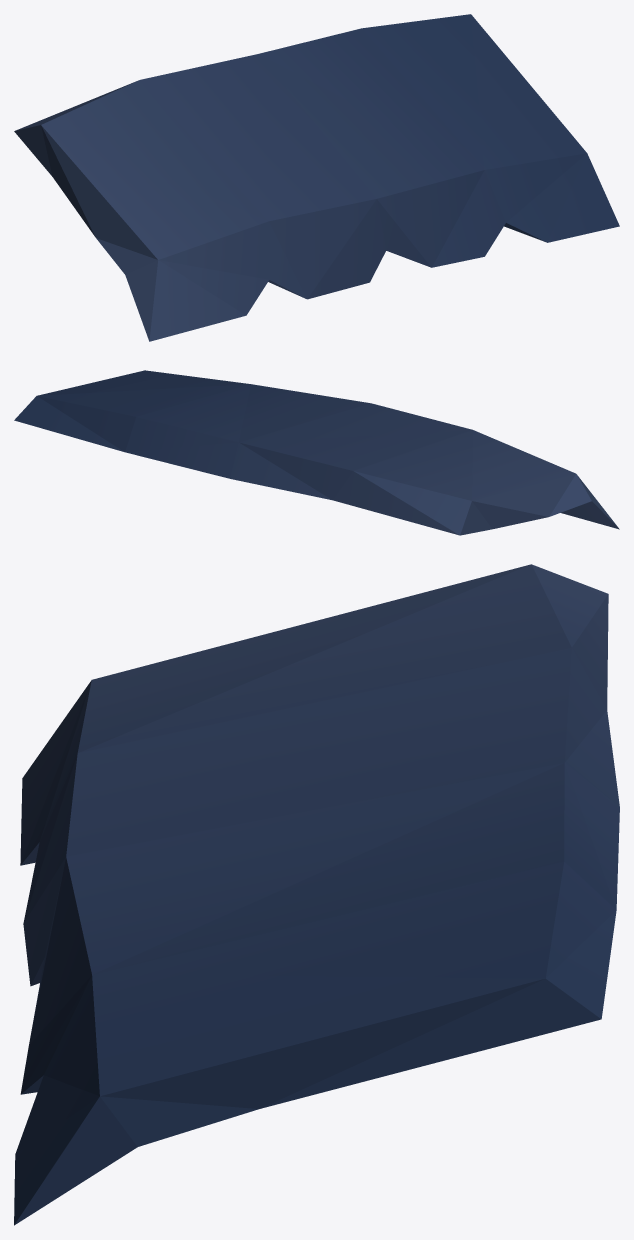
File: MarketStall_Roof_Blue.fbx
The picture shows the model from 3 angles, top to bottom: view 1: azimuth 30°, elevation 25°; view 2: azimuth 150°, elevation 25°; view 3: azimuth 270°, elevation 25°; orthographic projection. The views are drawn at different scales.
Visible parts, largest first — view 1: MarketStall_Roof_Blue; view 2: MarketStall_Roof_Blue; view 3: MarketStall_Roof_Blue.
Boxes of the visible parts, left/top/right/bottom form: MarketStall_Roof_Blue: left=14, top=14, right=619, bottom=341; MarketStall_Roof_Blue: left=14, top=370, right=619, bottom=535; MarketStall_Roof_Blue: left=14, top=564, right=619, bottom=1225.
Size of the model in its own units: 3.04 by 0.8 by 1.72.
Materials: 1 (1 with a texture image).
